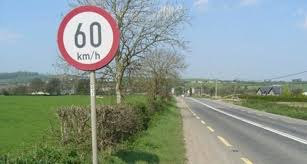Speed_limit_60km: (57, 6, 120, 69)
